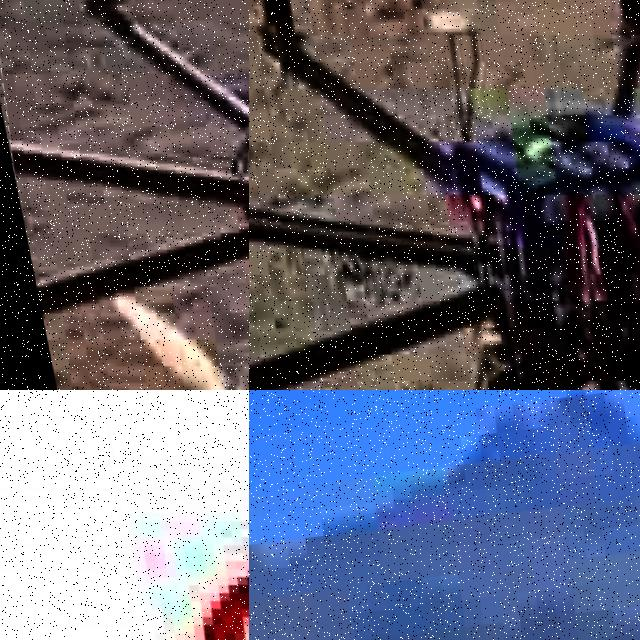drone: (249, 0, 640, 390), (0, 0, 249, 390), (0, 390, 249, 640)
